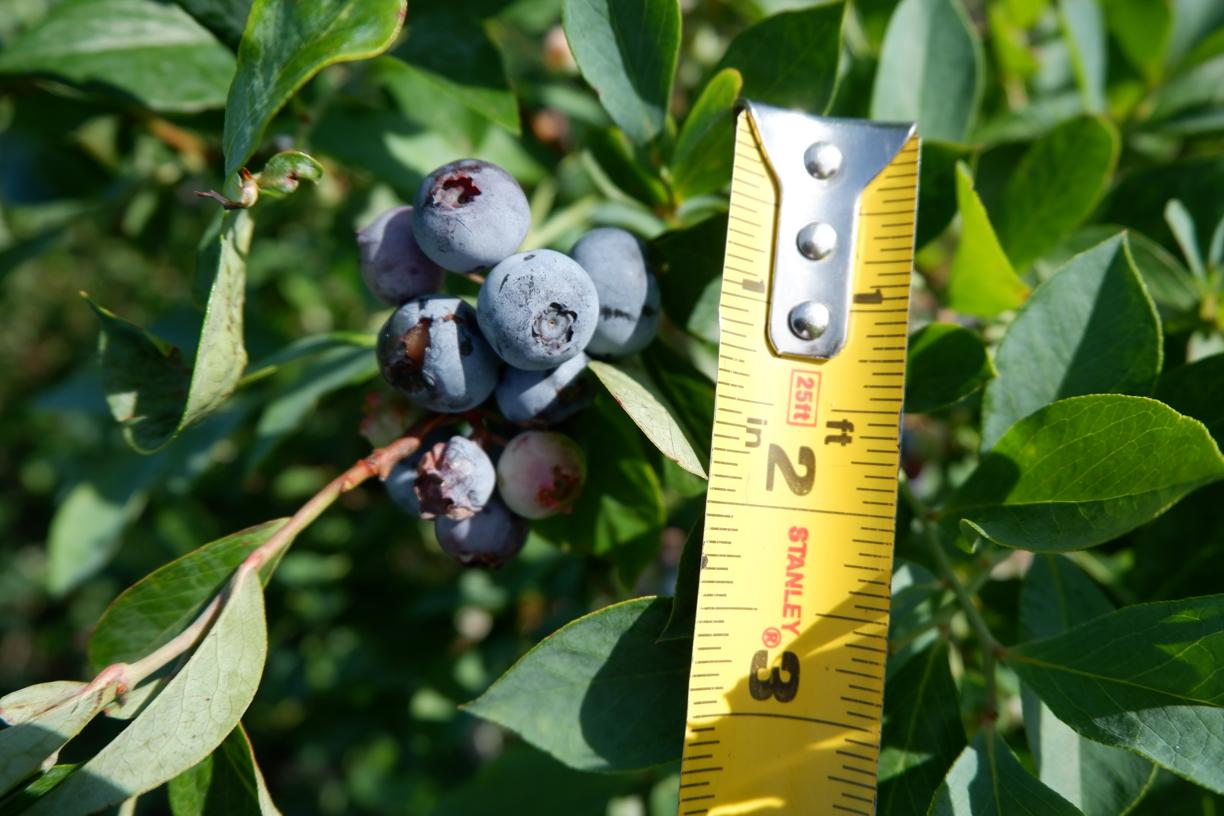Immature: (497, 431, 587, 519), (413, 437, 496, 523), (361, 389, 434, 446)
Mature: (376, 290, 505, 415), (476, 248, 600, 371), (410, 158, 532, 275), (568, 225, 664, 356), (357, 205, 446, 308), (433, 484, 531, 567), (493, 354, 603, 425), (385, 449, 424, 522)
